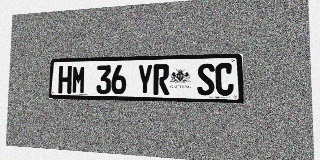3: (96, 65, 111, 94)
6: (111, 65, 126, 94)
C: (215, 63, 234, 96)
H: (58, 66, 72, 94)
M: (71, 66, 86, 94)
R: (153, 64, 169, 95)
S: (197, 63, 215, 95)
Y: (137, 64, 153, 95)
